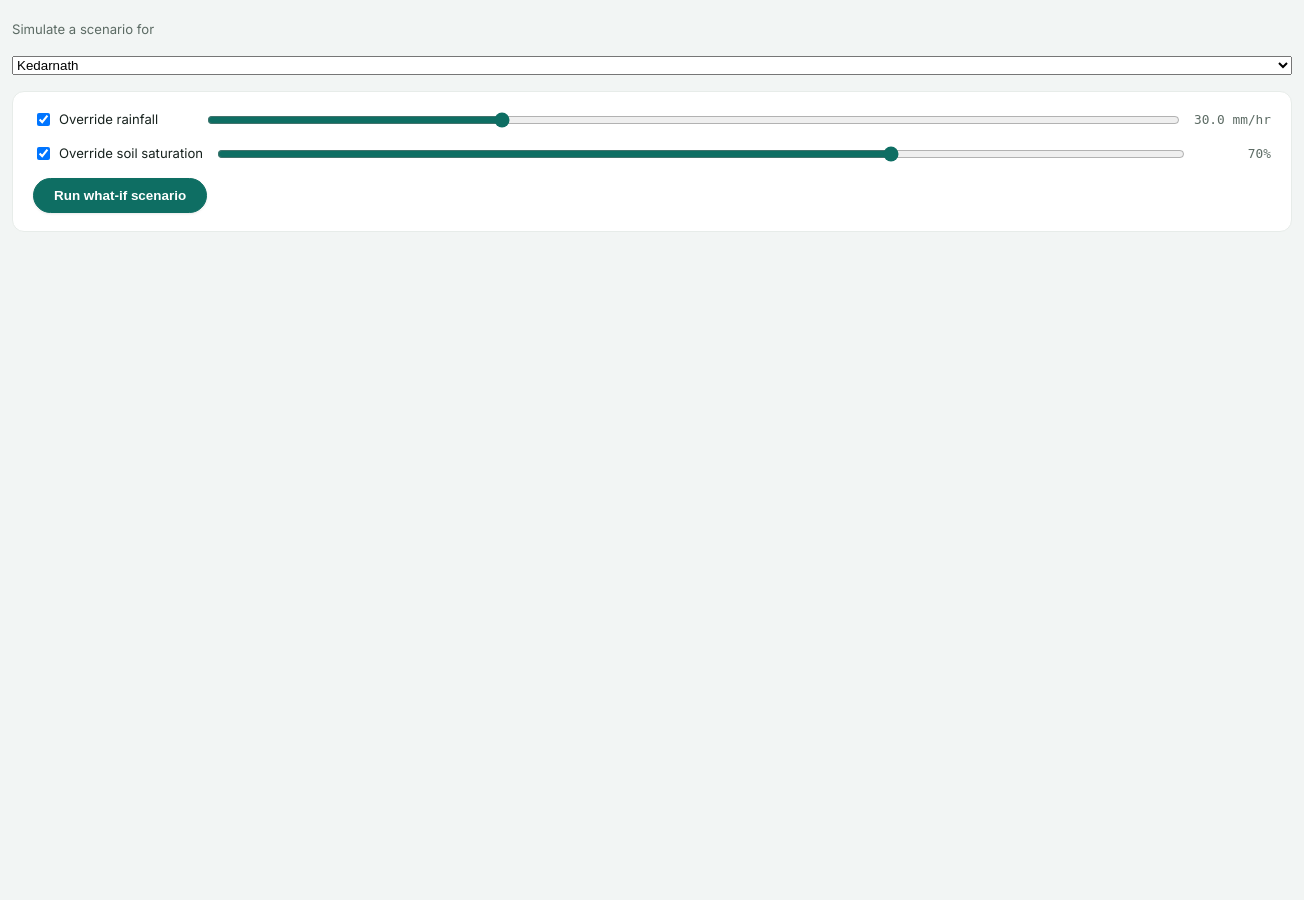
Scenario: WhatIfPanel › shows the rainfall I-D threshold comparison, which responds to the overrides unlike the risk score alone
Click the button "Run what-if scenario".
click(120, 195)  # box [33,178,207,213]
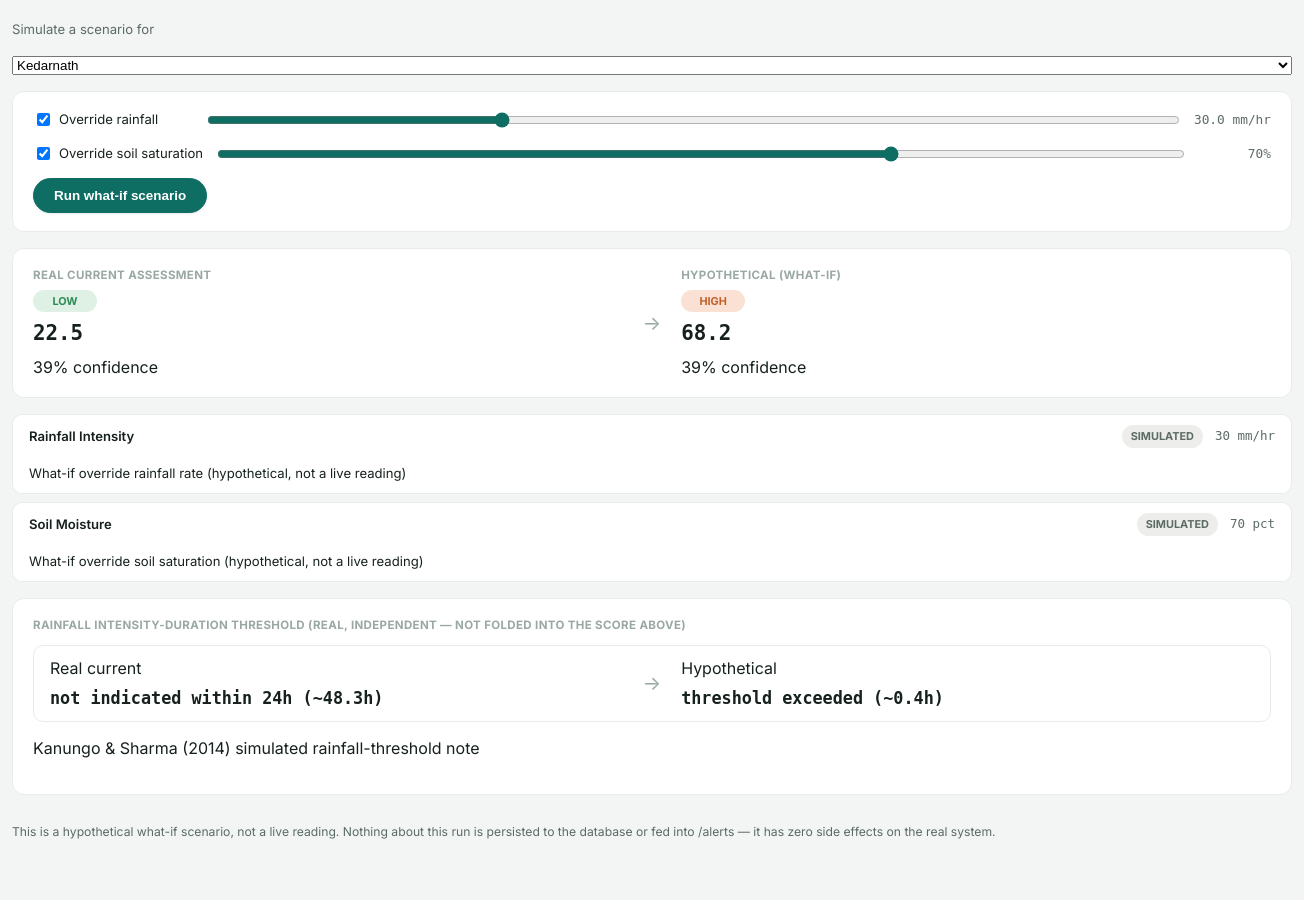
Now the text "Rainfall intensity-duration threshold" is shown, box [33,618,686,632]
Now the text "not indicated within 24h (~48.3h)" is shown, box [50,686,383,711]
Now the text "threshold exceeded (~0.4h)" is shown, box [681,686,944,711]
